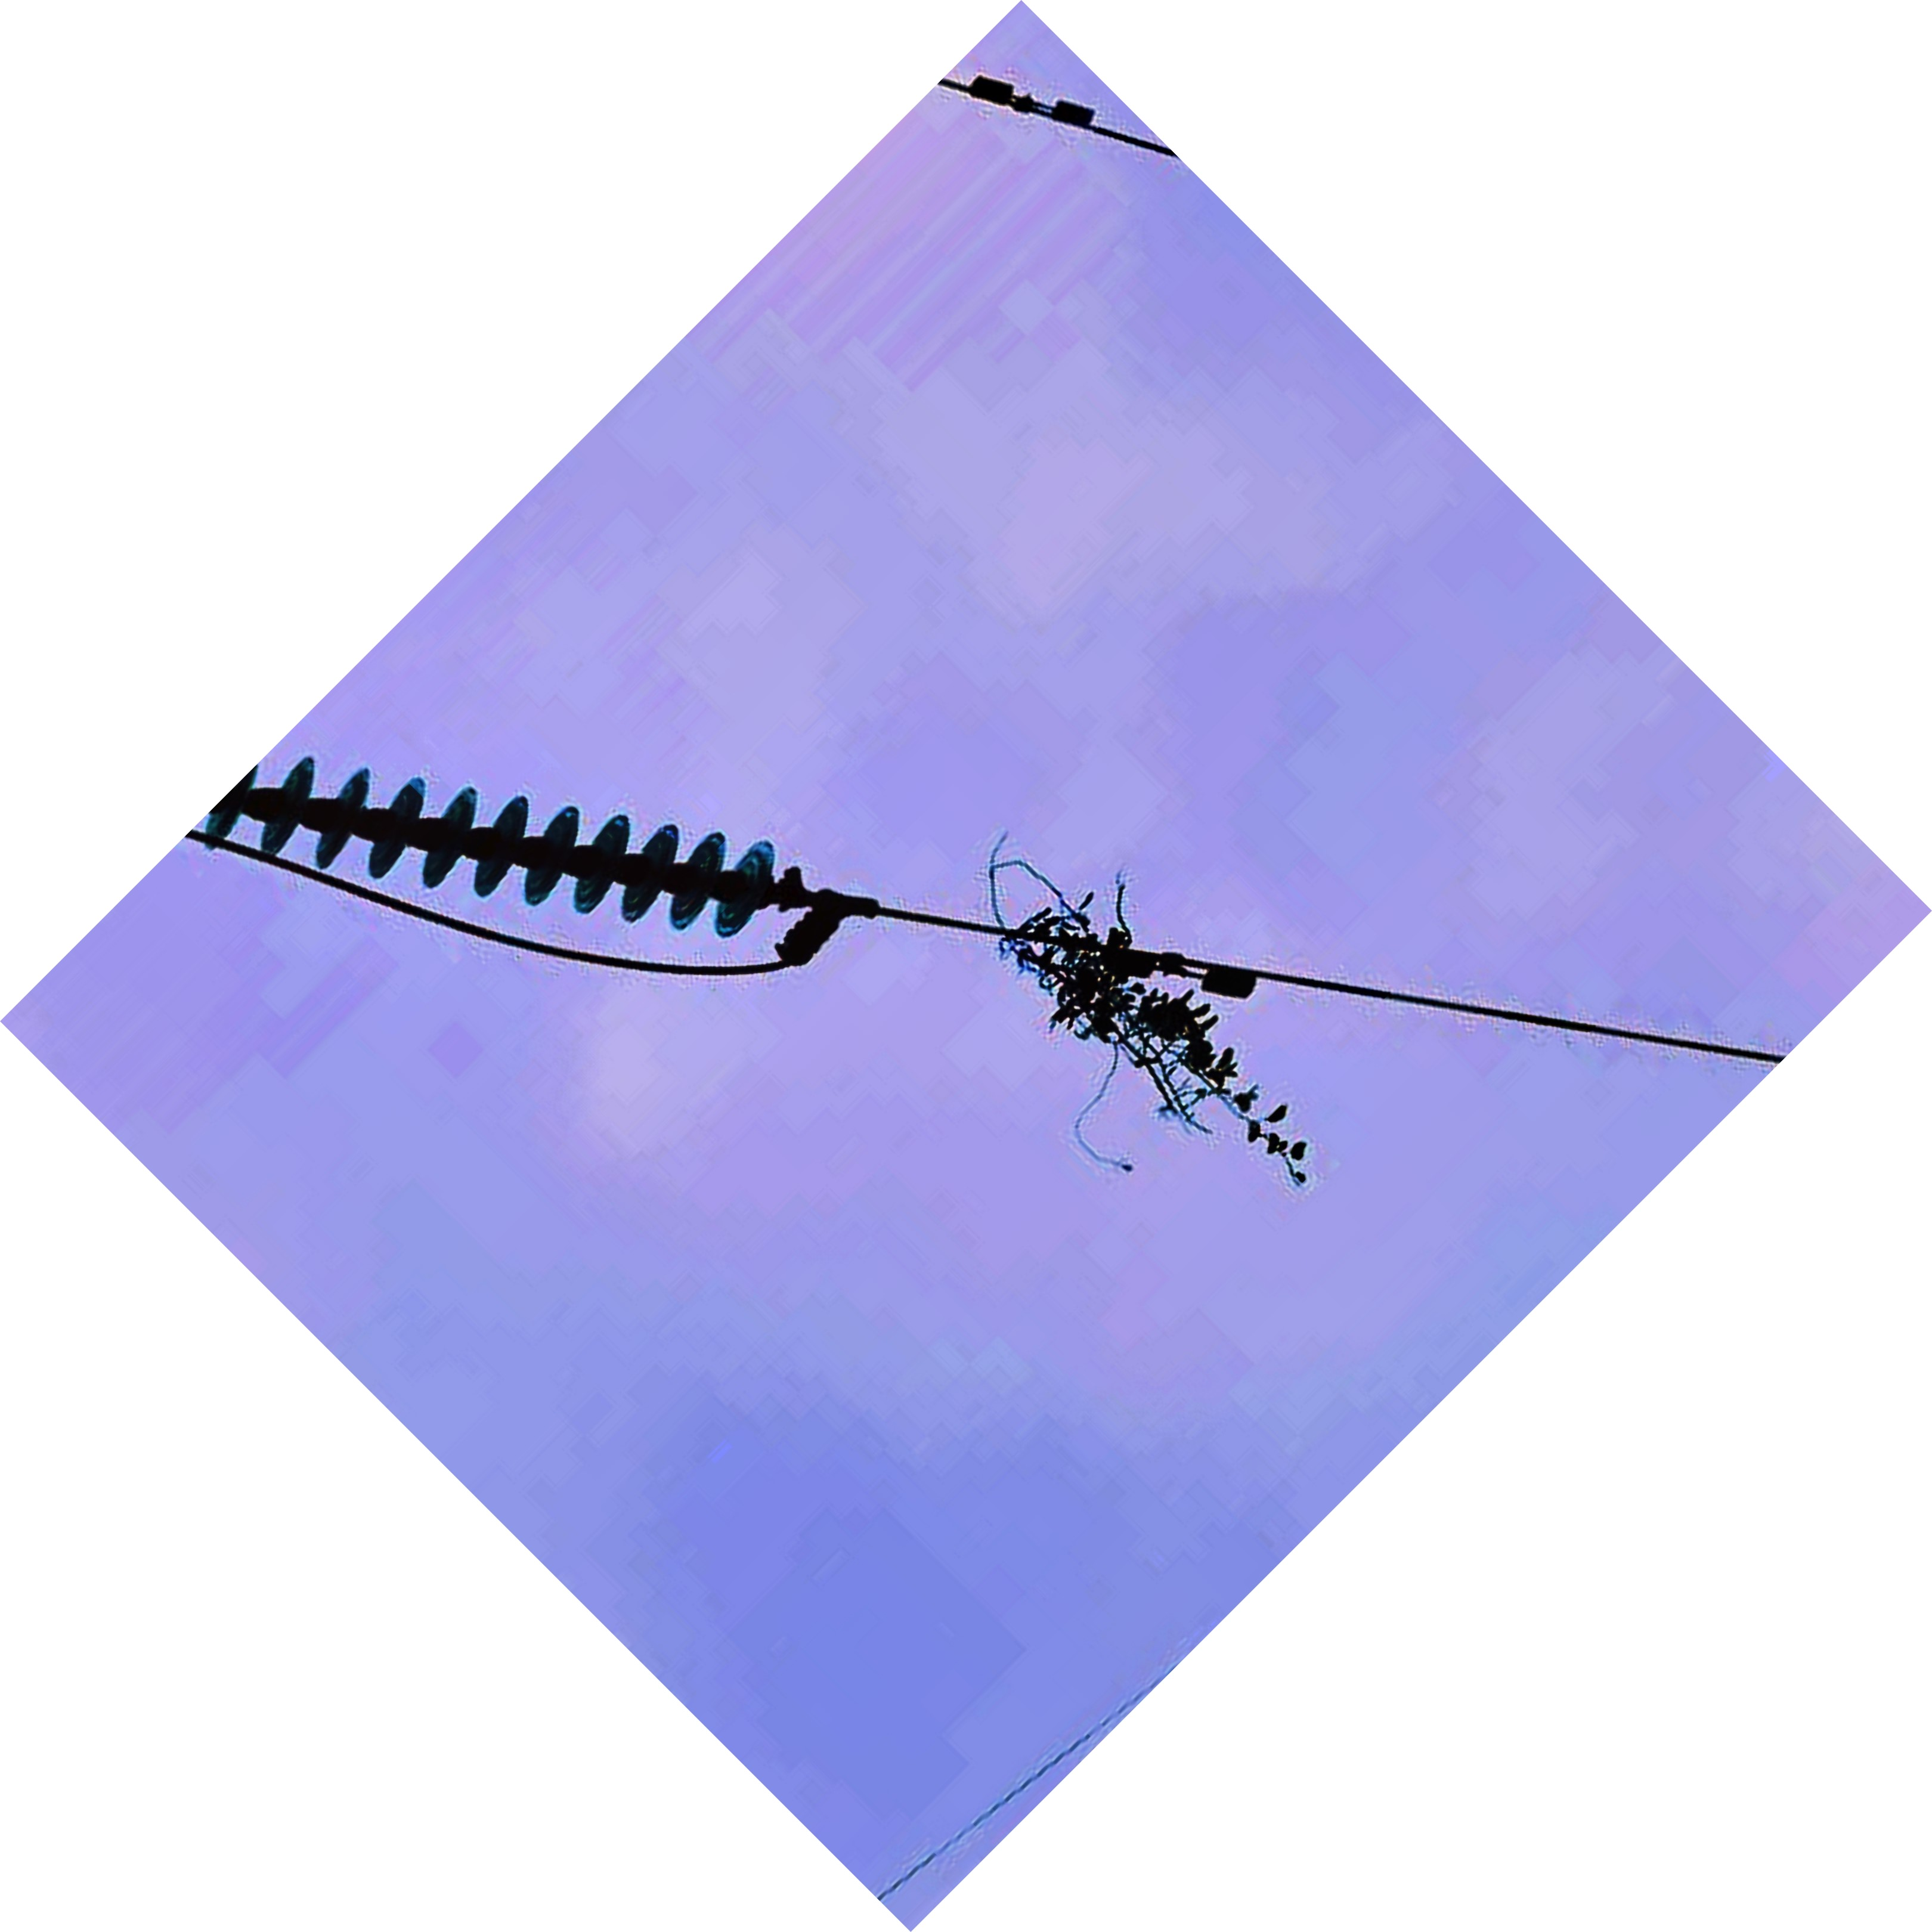wire foreign body: (961, 853, 1357, 1212)
